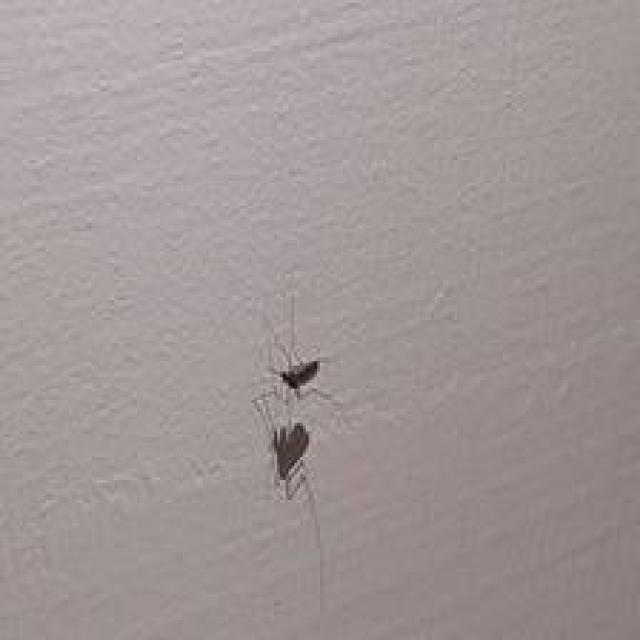Culex: (269, 357, 320, 400)
